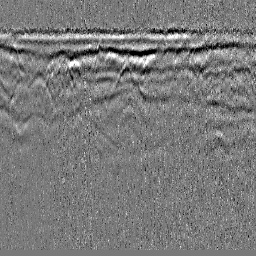cavity: (110, 60, 146, 100)
